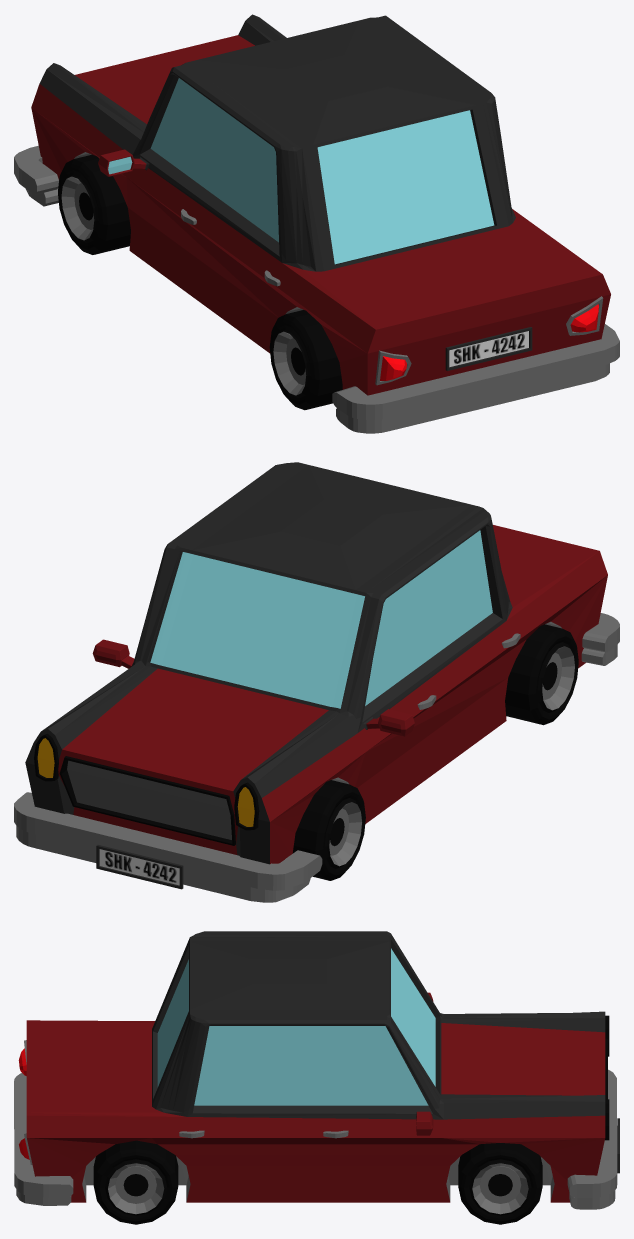
The model's file is Carros.fbx.
The picture shows the model from 3 angles, top to bottom: view 1: azimuth 30°, elevation 25°; view 2: azimuth 150°, elevation 25°; view 3: azimuth 270°, elevation 25°; orthographic projection. The views are drawn at different scales.
Visible parts, largest first — view 1: Carro Vermelho; view 2: Carro Vermelho; view 3: Carro Vermelho.
Boxes of the visible parts, x1,y1,x2,y2 form: Carro Vermelho: (14, 14, 619, 433); Carro Vermelho: (14, 462, 619, 902); Carro Vermelho: (14, 931, 619, 1224).
Bounding box in the file's own units: 7.32 × 5.19 × 14.33.
